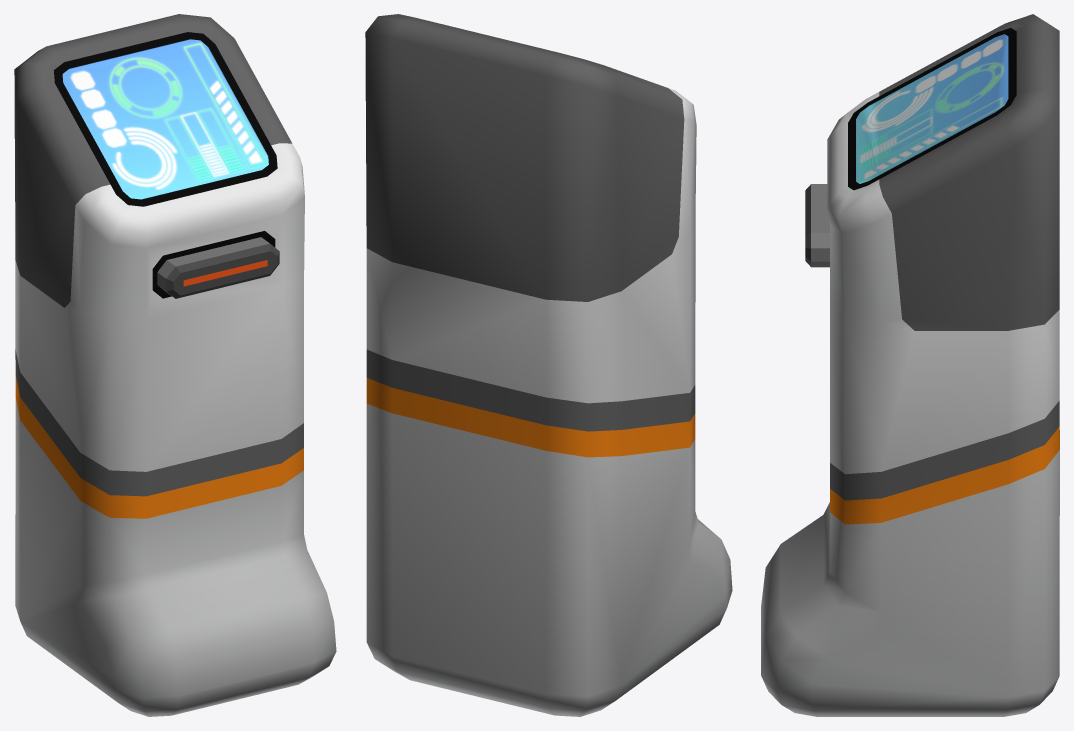
The model's file is Terminal_012.fbx.
3 renders of one model, left to right at view 1: azimuth 30°, elevation 25°; view 2: azimuth 150°, elevation 25°; view 3: azimuth 270°, elevation 25°, orthographic. The views are drawn at different scales.
Parts seen in each view (by area): view 1: Terminal_012; view 2: Terminal_012; view 3: Terminal_012.
Boxes of the visible parts, left/top/right/bottom form: Terminal_012: left=14, top=14, right=336, bottom=716; Terminal_012: left=365, top=14, right=732, bottom=716; Terminal_012: left=761, top=14, right=1059, bottom=716.
Size of the model in its own units: 56.97 by 63.55 by 144.
